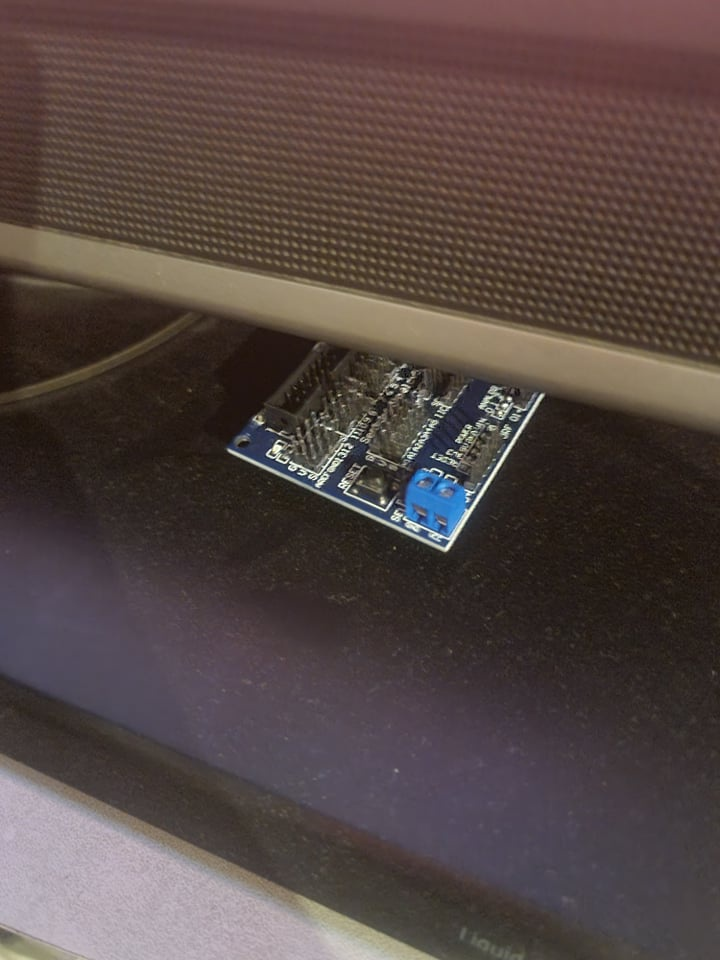5V EXPANSION: (228, 320, 549, 553)
